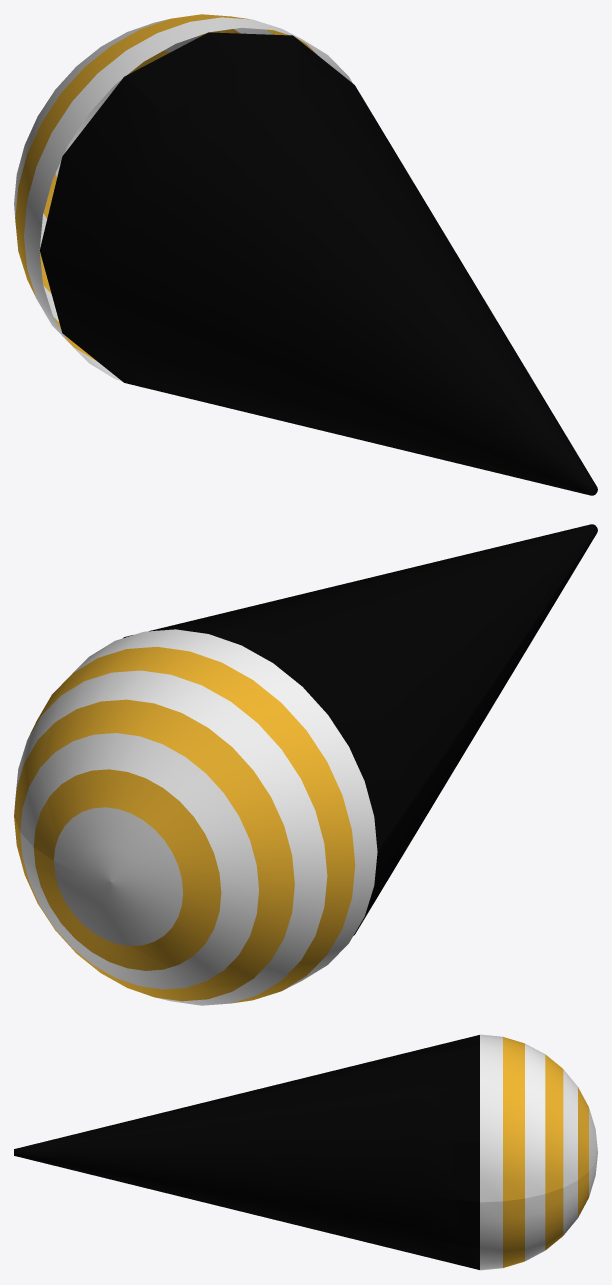
File: chute.obj
3 views of the same model, one above another, from view 1: azimuth 30°, elevation 25°; view 2: azimuth 150°, elevation 25°; view 3: azimuth 270°, elevation 25° (orthographic). The views are drawn at different scales.
Parts seen in each view (by area): view 1: group4, group0, group2, group3, group1; view 2: group0, group4, group2, group3, group1; view 3: group4, group0, group2, group3, group1.
Part boxes in pixels (x1=…): group4: x1=39, y1=32, x2=597, y2=495; group0: x1=14, y1=17, x2=352, y2=388; group2: x1=15, y1=14, x2=315, y2=361; group3: x1=16, y1=14, x2=311, y2=359; group1: x1=15, y1=17, x2=349, y2=380; group0: x1=14, y1=629, x2=377, y2=1005; group4: x1=123, y1=524, x2=597, y2=935; group2: x1=14, y1=646, x2=355, y2=1003; group3: x1=14, y1=647, x2=354, y2=1001; group1: x1=17, y1=630, x2=376, y2=1004; group4: x1=14, y1=1035, x2=479, y2=1269; group0: x1=480, y1=1034, x2=597, y2=1270; group2: x1=503, y1=1037, x2=588, y2=1267; group3: x1=503, y1=1037, x2=588, y2=1267; group1: x1=480, y1=1035, x2=595, y2=1270.
Bounding box in the file's own units: 35.5 × 35.5 × 87.75.
